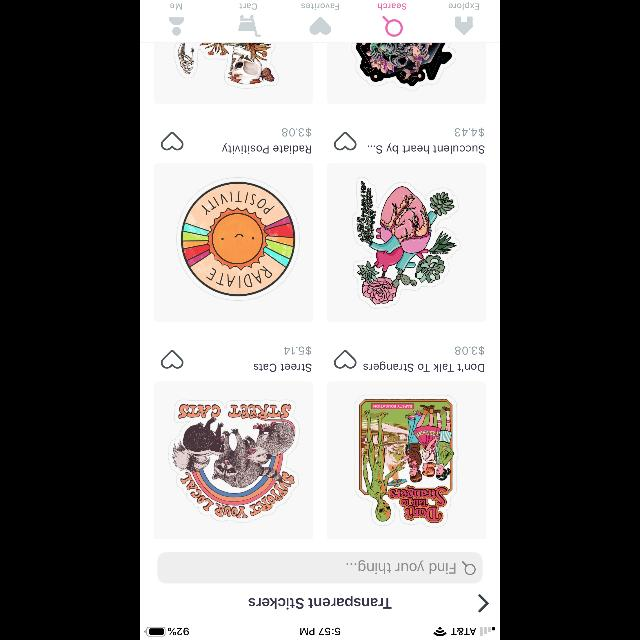icon: (239, 16, 261, 36), (160, 132, 183, 150), (383, 16, 403, 36), (334, 350, 356, 368), (161, 350, 183, 368), (334, 132, 356, 150), (309, 17, 331, 35), (456, 16, 472, 36), (170, 17, 184, 35), (479, 594, 489, 612), (462, 562, 476, 574)
image: (328, 164, 487, 322), (154, 164, 312, 322), (328, 382, 487, 538), (154, 382, 312, 538), (328, 42, 487, 104), (154, 42, 312, 104)
input: (158, 552, 482, 584)
text: (248, 595, 392, 609), (346, 560, 456, 574), (364, 362, 484, 372), (368, 144, 484, 154), (222, 144, 312, 154), (254, 364, 312, 372), (456, 346, 484, 356), (284, 346, 312, 356), (448, 2, 479, 10), (282, 128, 312, 136), (456, 128, 484, 136), (302, 4, 338, 10), (378, 4, 406, 10), (240, 4, 256, 10), (170, 4, 182, 10)
uppertaskbar: (140, 626, 500, 640)
